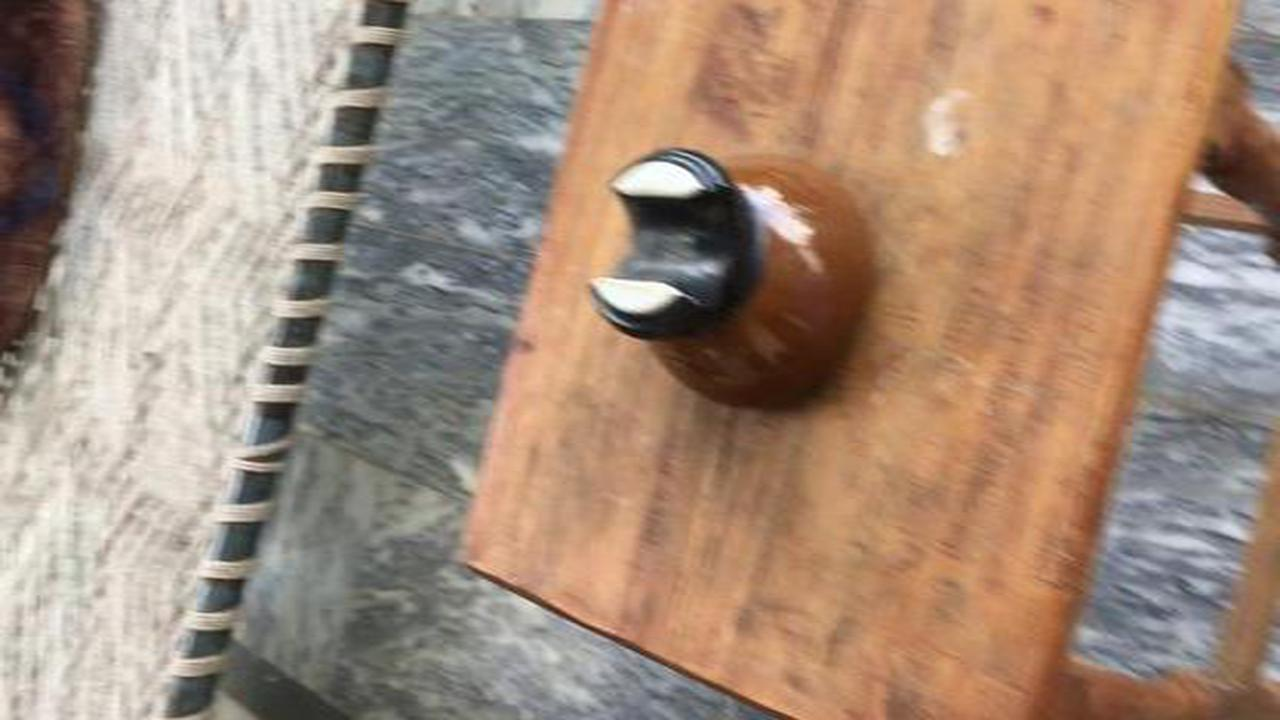insulator_pin: (567, 129, 896, 425)
